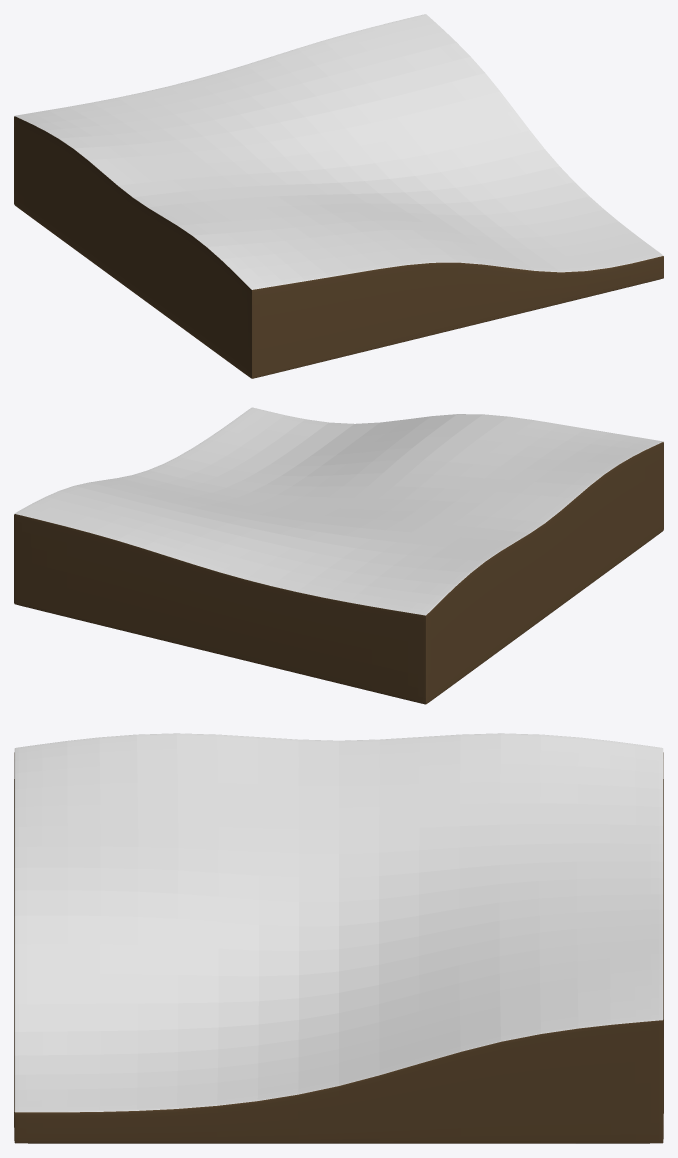
Rendered from DioSand_02.fbx.
The picture shows the model from 3 angles, top to bottom: view 1: azimuth 30°, elevation 25°; view 2: azimuth 150°, elevation 25°; view 3: azimuth 270°, elevation 25°; orthographic projection. The views are drawn at different scales.
Visible parts, largest first — view 1: DioSand_02; view 2: DioSand_02; view 3: DioSand_02.
Part boxes in pixels (left/top/right/bottom): DioSand_02: left=14, top=14, right=663, bottom=378; DioSand_02: left=14, top=407, right=663, bottom=704; DioSand_02: left=14, top=733, right=663, bottom=1143.
Size of the model in its own units: 1016 by 236 by 1016.
